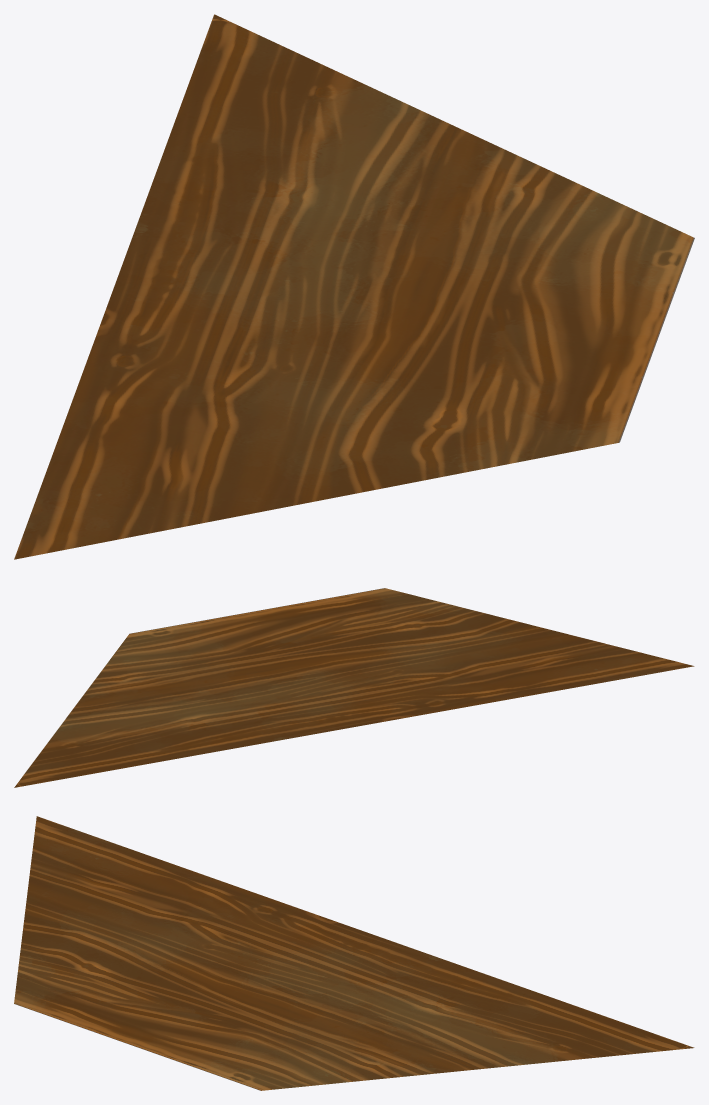
The picture shows the model from 3 angles, top to bottom: view 1: azimuth 30°, elevation 25°; view 2: azimuth 150°, elevation 25°; view 3: azimuth 270°, elevation 25°; orthographic projection. The views are drawn at different scales.
Parts seen in each view (by area): view 1: Plane.022; view 2: Plane.022; view 3: Plane.022.
Boxes of the visible parts, x1,y1,x2,y2 form: Plane.022: [14, 14, 694, 559]; Plane.022: [14, 588, 694, 787]; Plane.022: [14, 816, 694, 1090].
Bounding box in the file's own units: 1270 × 26.92 × 1390.
1 material, 1 textured.
